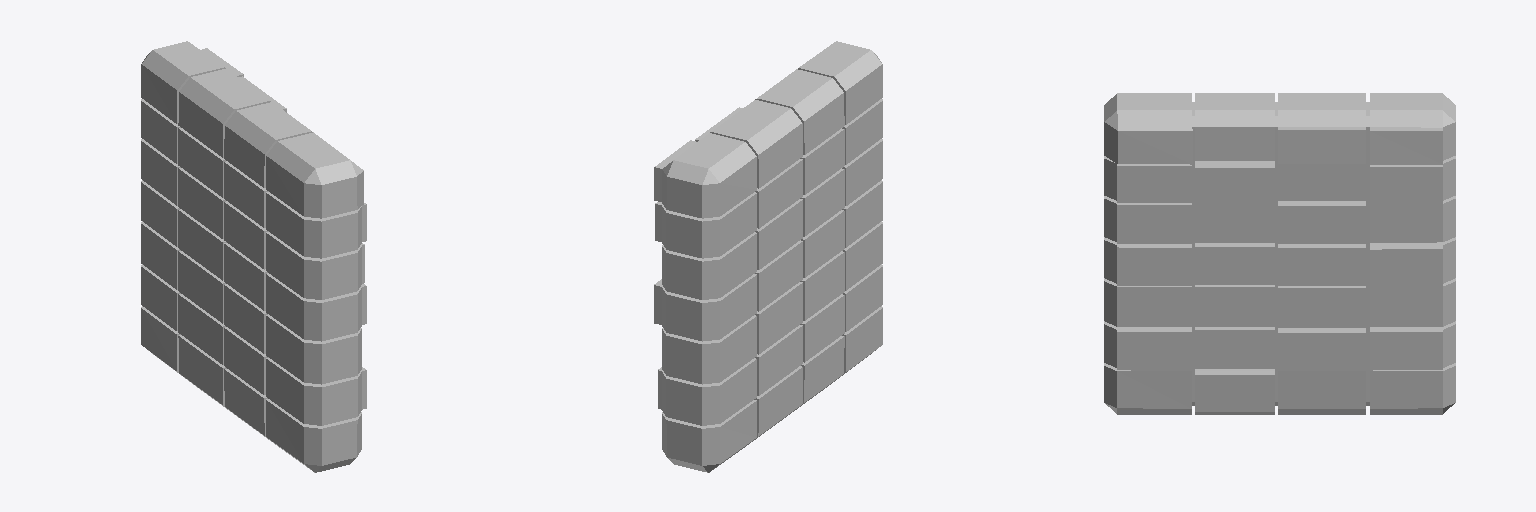
File: wallDD2.obj
3 views of the same model, side by side, from view 1: azimuth 30°, elevation 25°; view 2: azimuth 150°, elevation 25°; view 3: azimuth 270°, elevation 25° (orthographic).
Visible parts, largest first — view 1: Cube.000_Cube.002; view 2: Cube.000_Cube.002; view 3: Cube.000_Cube.002.
Boxes of the visible parts, <box> form: Cube.000_Cube.002: <box>141,41,366,472</box>; Cube.000_Cube.002: <box>654,41,882,472</box>; Cube.000_Cube.002: <box>1104,93,1455,414</box>.
Bounding box in the file's own units: 1.96 × 8.32 × 8.7.